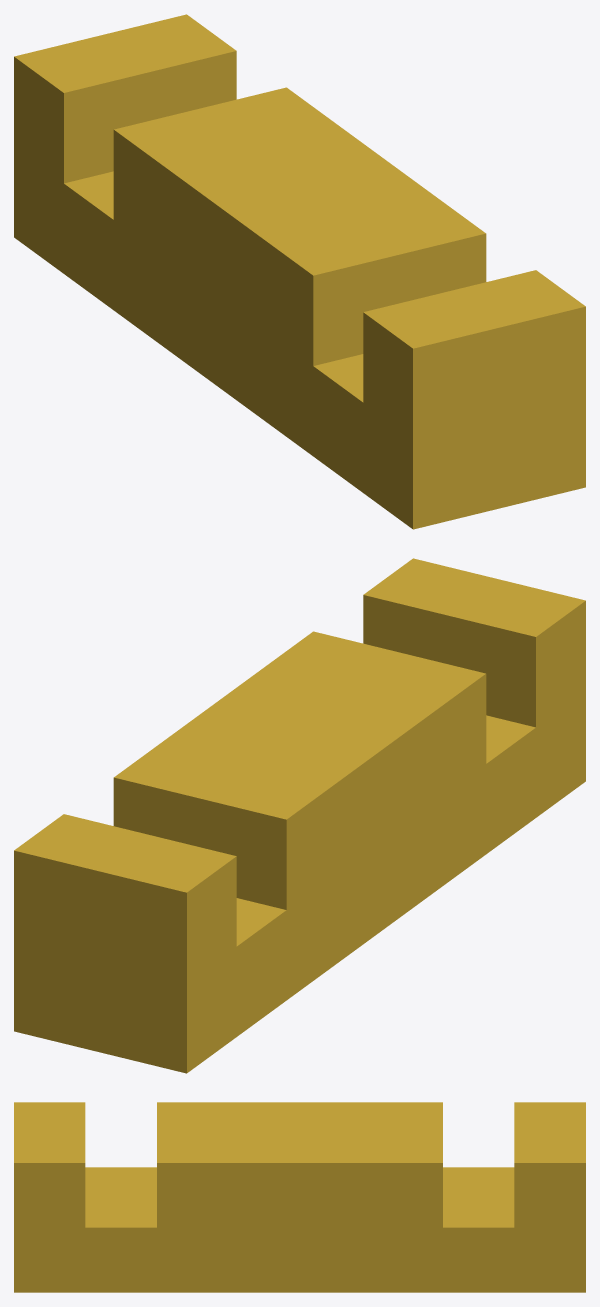
The model's file is guard3.obj.
The picture shows the model from 3 angles, top to bottom: view 1: azimuth 30°, elevation 25°; view 2: azimuth 150°, elevation 25°; view 3: azimuth 270°, elevation 25°; orthographic projection. The views are drawn at different scales.
Bounding box in the file's own units: 0.2 × 0.2 × 0.8.
Materials: 1 (1 with a texture image).
